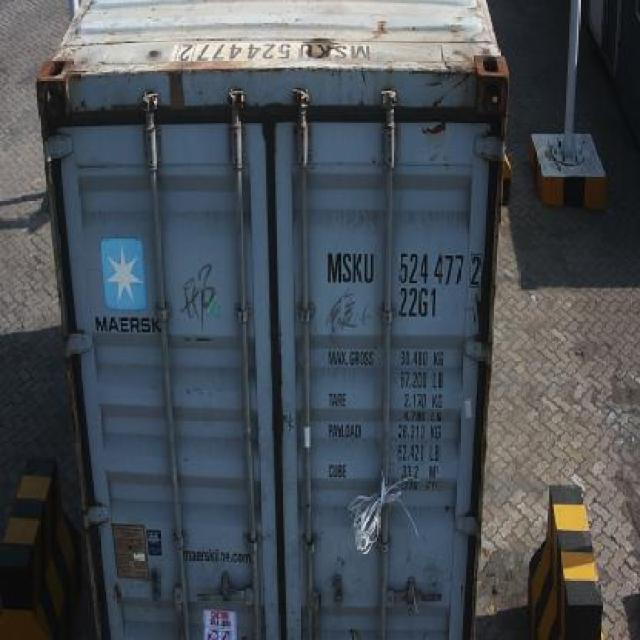ISO: (398, 288, 438, 318)
container_number: (328, 253, 476, 286)
